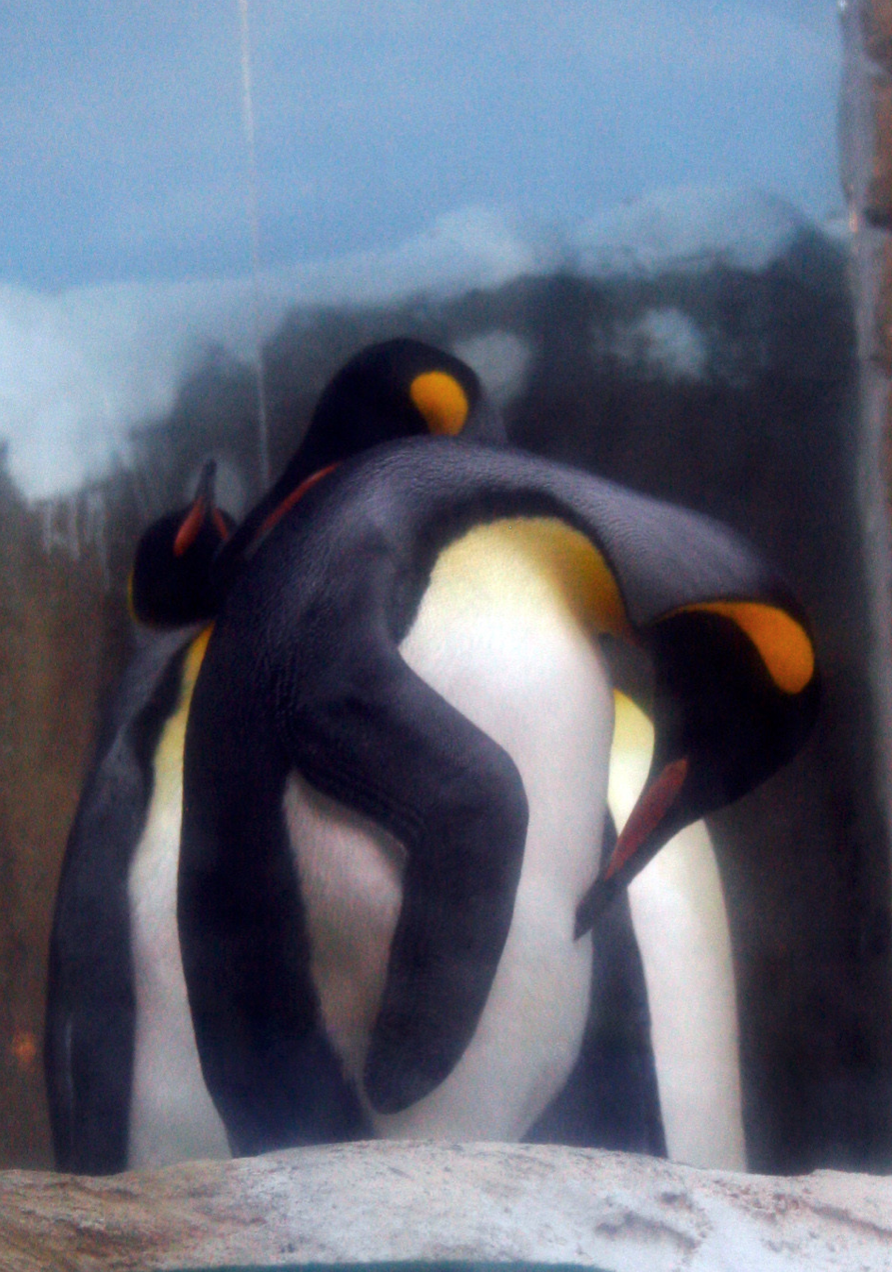penguin: (195, 429, 824, 1170)
